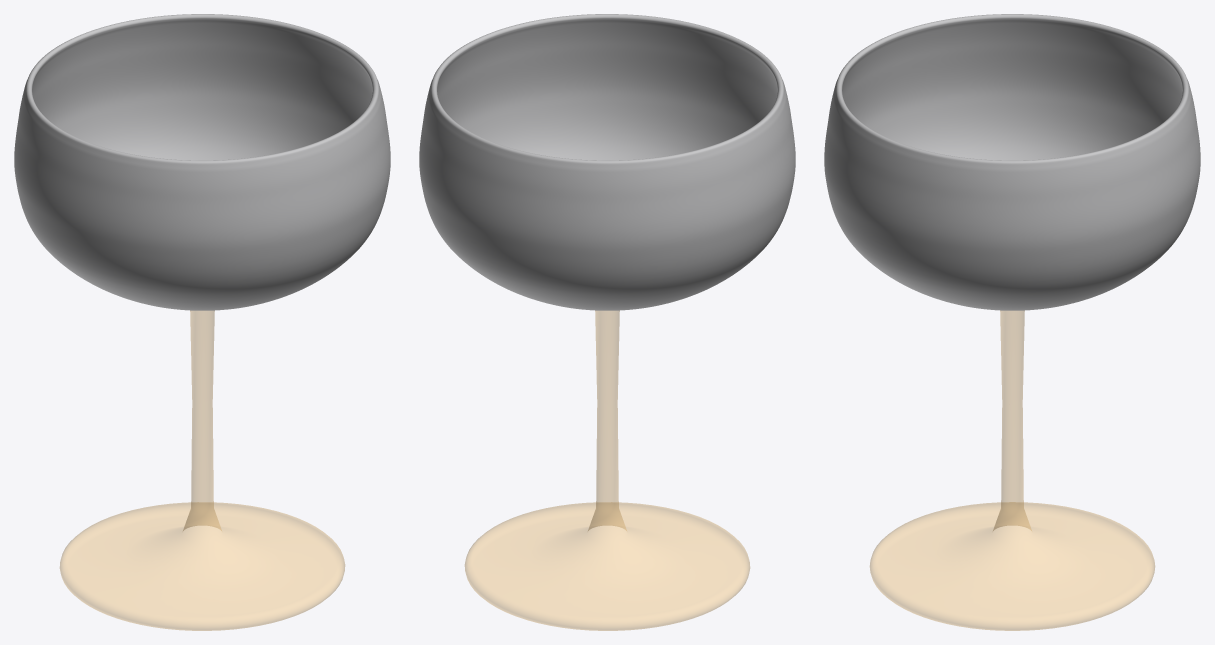
File: coupe-c.glb
3 views of the same model, side by side, from view 1: azimuth 30°, elevation 25°; view 2: azimuth 150°, elevation 25°; view 3: azimuth 270°, elevation 25° (orthographic).
Parts seen in each view (by area): view 1: coupe_Glass, coupe_Stem; view 2: coupe_Glass, coupe_Stem; view 3: coupe_Glass, coupe_Stem.
Boxes of the visible parts, x1=… form: coupe_Glass: x1=14, y1=14, x2=390, y2=310; coupe_Stem: x1=60, y1=311, x2=344, y2=630; coupe_Glass: x1=419, y1=14, x2=795, y2=310; coupe_Stem: x1=465, y1=311, x2=749, y2=630; coupe_Glass: x1=824, y1=14, x2=1200, y2=310; coupe_Stem: x1=870, y1=310, x2=1154, y2=630.
Size of the model in its own units: 0.1055 by 0.15 by 0.1055.
